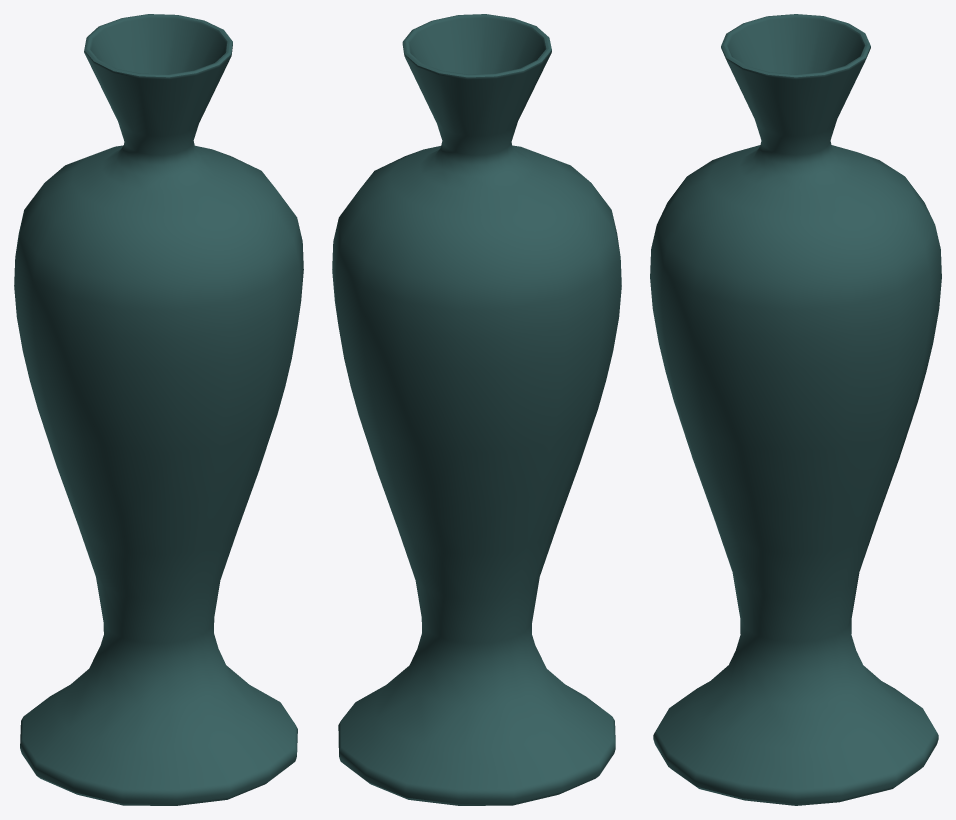
Rendered from vase.fbx.
The picture shows the model from 3 angles, left to right: view 1: azimuth 30°, elevation 25°; view 2: azimuth 150°, elevation 25°; view 3: azimuth 270°, elevation 25°; orthographic projection.
Visible parts, largest first — view 1: VASE; view 2: VASE; view 3: VASE.
Part boxes in pixels (bbox=[...]): VASE: bbox=[14, 14, 303, 805]; VASE: bbox=[332, 14, 621, 805]; VASE: bbox=[650, 14, 941, 805].
Bounding box in the file's own units: 5.72 × 15.23 × 5.72.
